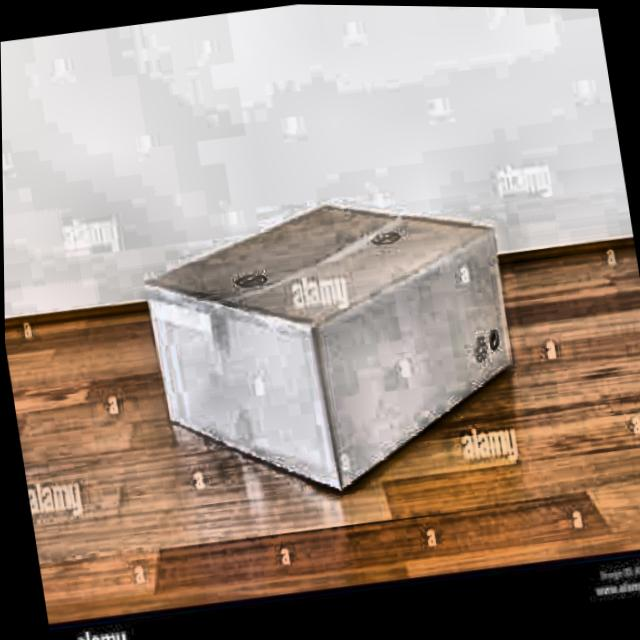Cardbox: (125, 150, 559, 535)
